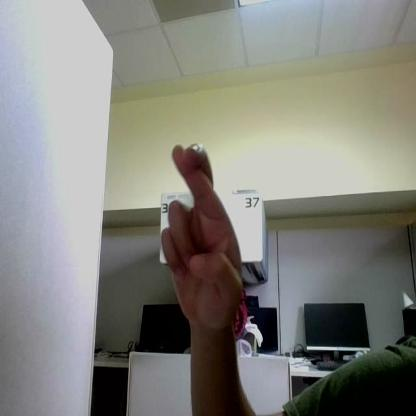R: (162, 144, 241, 323)
